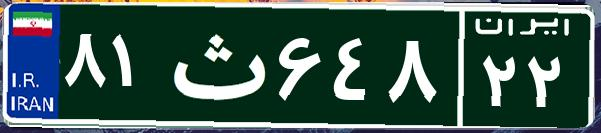1: (110, 28, 158, 105)
2: (475, 38, 525, 113), (525, 38, 570, 115)
4: (330, 28, 385, 110)
6: (273, 28, 330, 110)
8: (385, 28, 445, 110), (57, 26, 110, 107)
ث: (158, 15, 273, 115)
